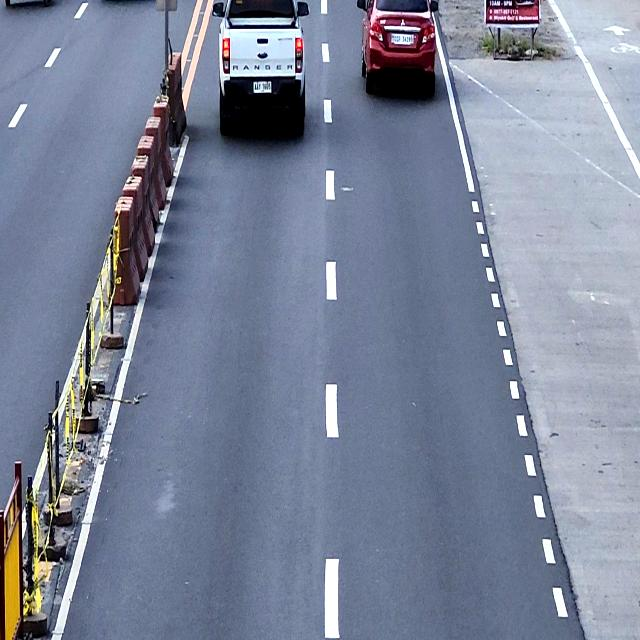Car: (212, 0, 309, 135), (356, 0, 438, 95)
License-Plate: (394, 32, 412, 46), (252, 81, 272, 93)
